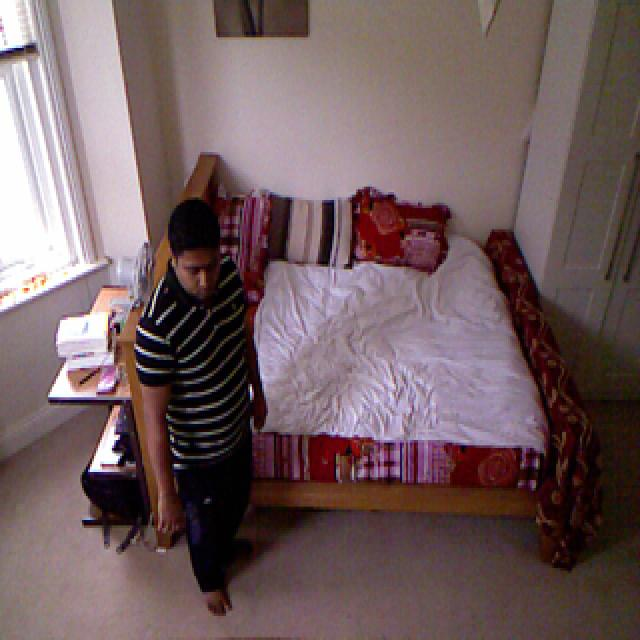standing: (132, 176, 256, 618)
